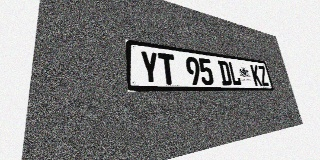5: (198, 58, 215, 85)
9: (185, 56, 202, 85)
D: (218, 60, 233, 85)
K: (250, 64, 263, 86)
L: (228, 62, 242, 85)
T: (158, 53, 177, 85)
Y: (139, 50, 160, 84)
Z: (257, 65, 269, 86)
